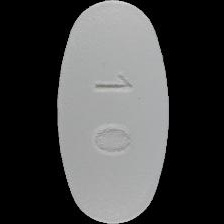0378-3950: (0, 0, 224, 224)
